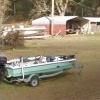Boat: (5, 45, 81, 87)
